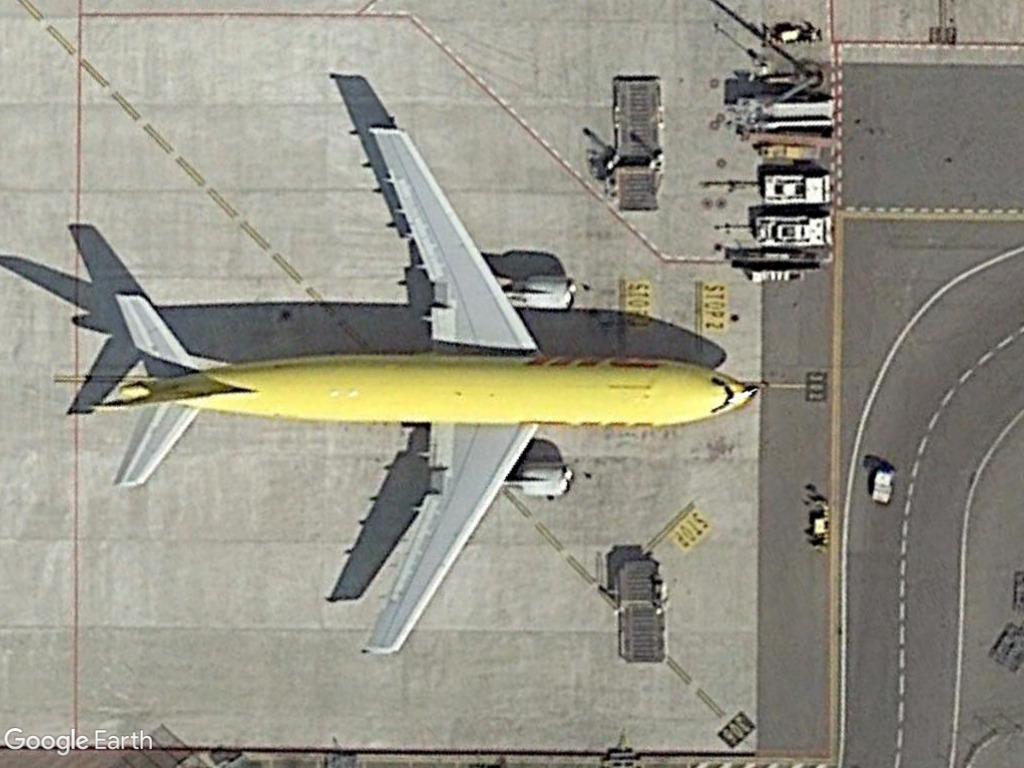airliner: (73, 99, 767, 667)
pushbacktruck: (753, 164, 837, 211), (744, 212, 840, 253)
stairtruck: (746, 93, 837, 135)
